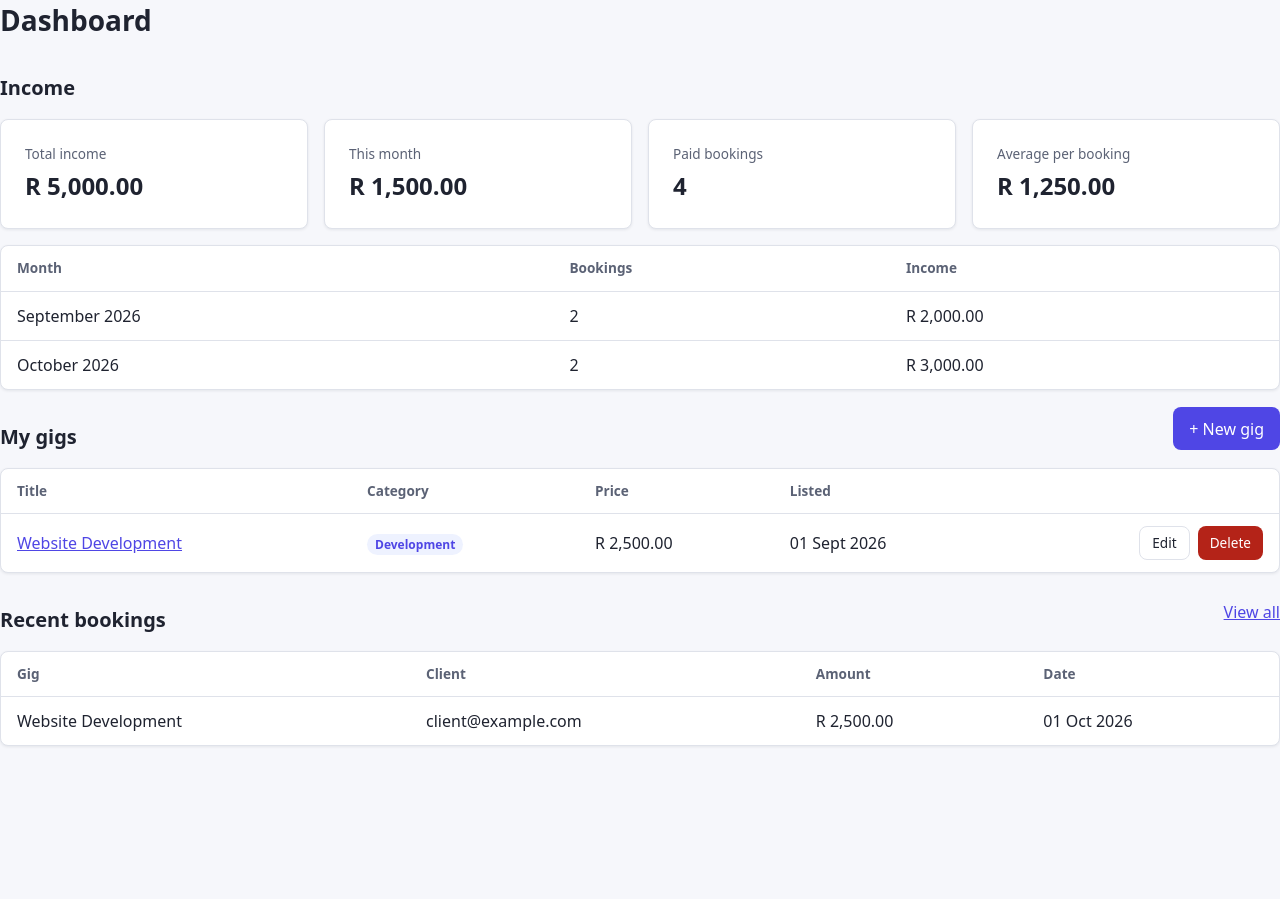
it: FreelancerDashboard › closes the gig form when Cancel is clicked
Expected: the heading "My gigs" is shown, [0,422,77,452]
Click the button "+ New gig" at [1227, 429], box [1173,407,1279,450]
(page scrolled)
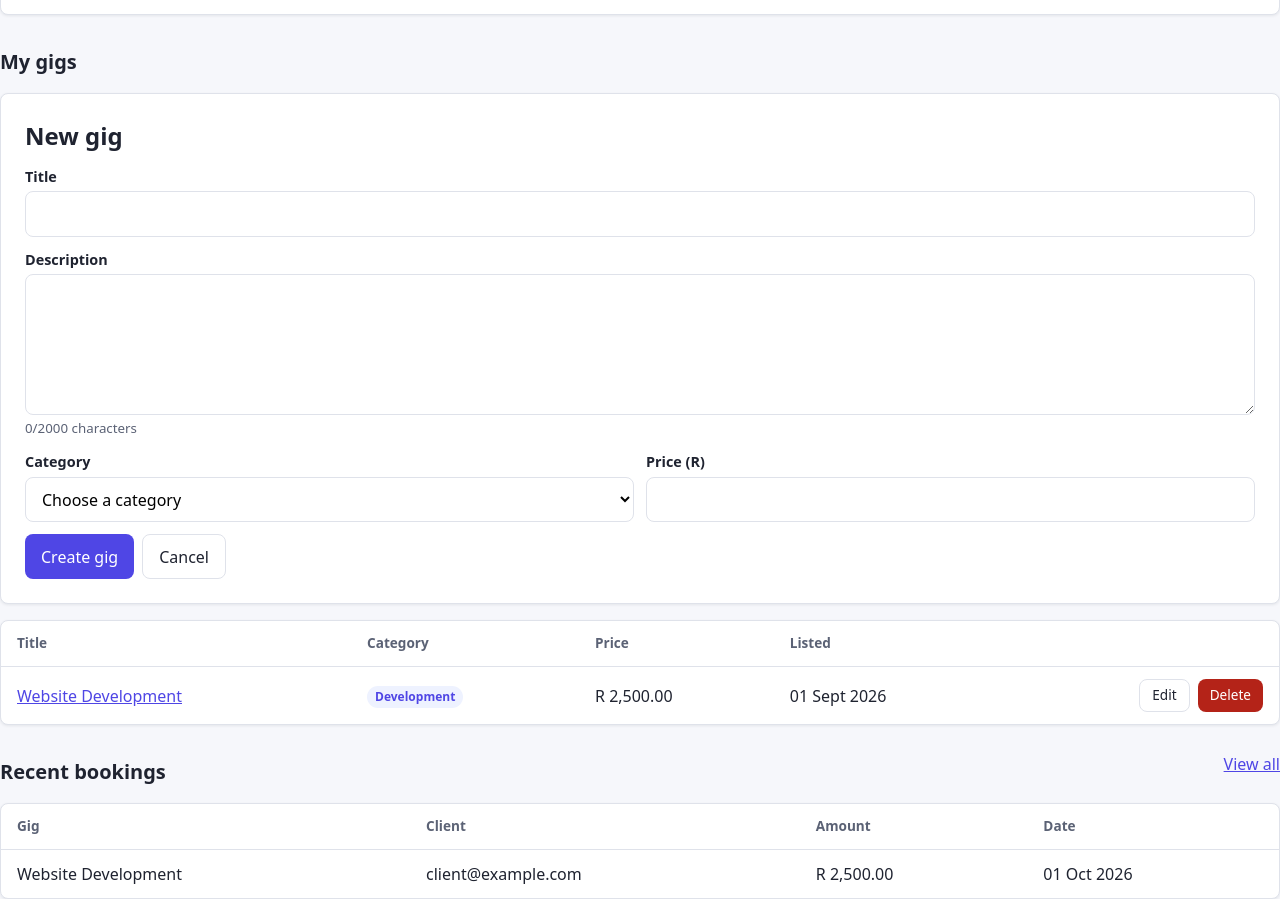
Click the button "Cancel" at [184, 557], box [142,534,226,579]
(page scrolled)
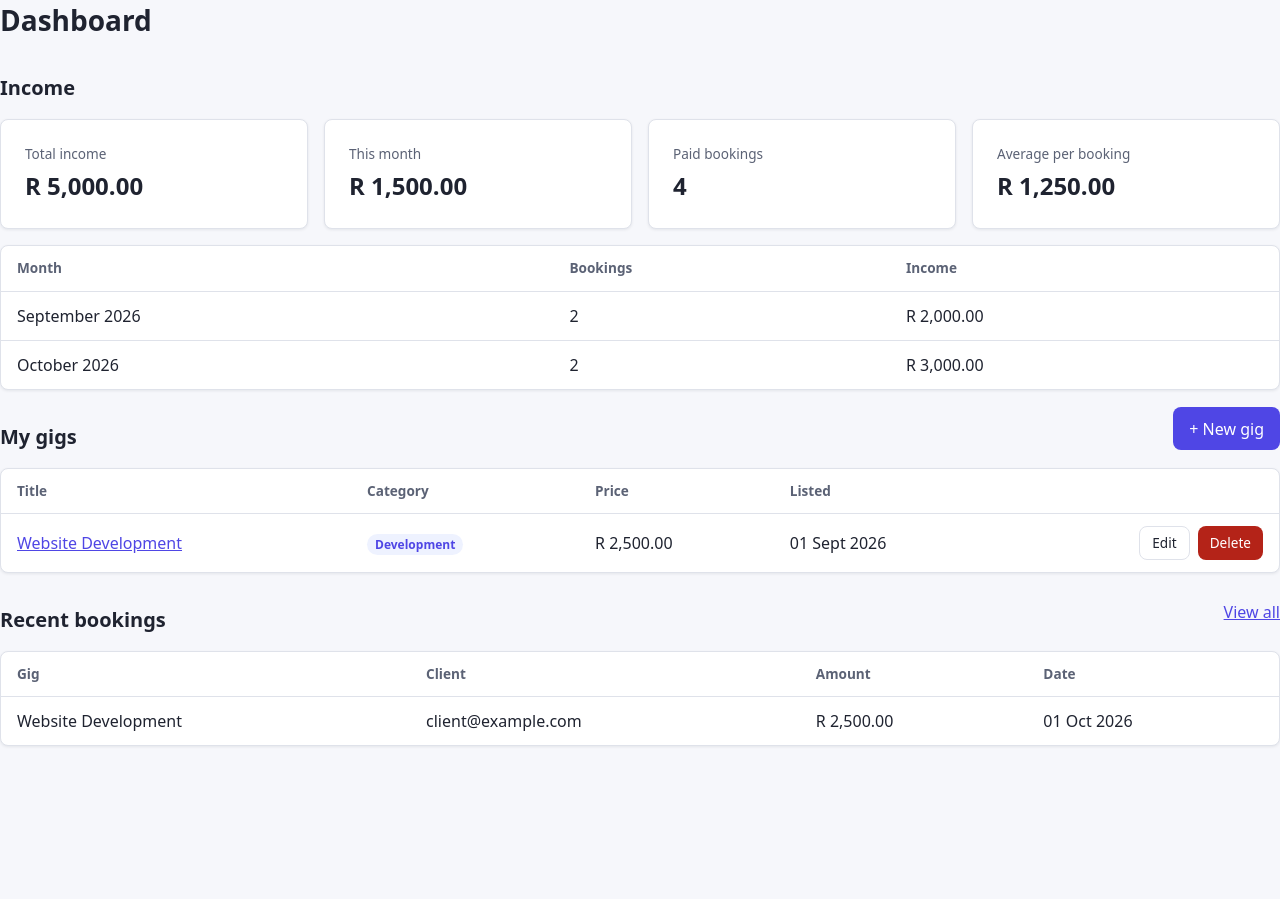
Expected: the form with test id "gig-form" is gone
